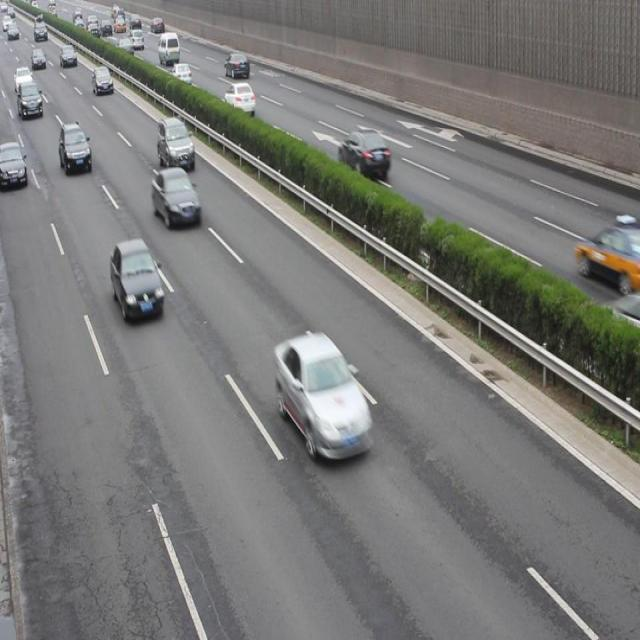car: (274, 333, 373, 463), (110, 237, 163, 325), (574, 224, 640, 289), (152, 167, 200, 230), (338, 127, 389, 182), (157, 115, 194, 169), (59, 121, 93, 174), (1, 139, 28, 193), (224, 82, 255, 117)
